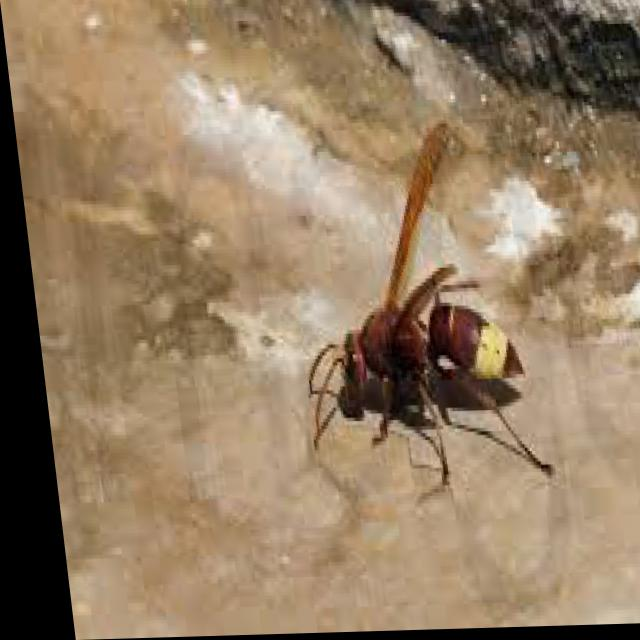Vespa Orientalis: (247, 109, 560, 525)
